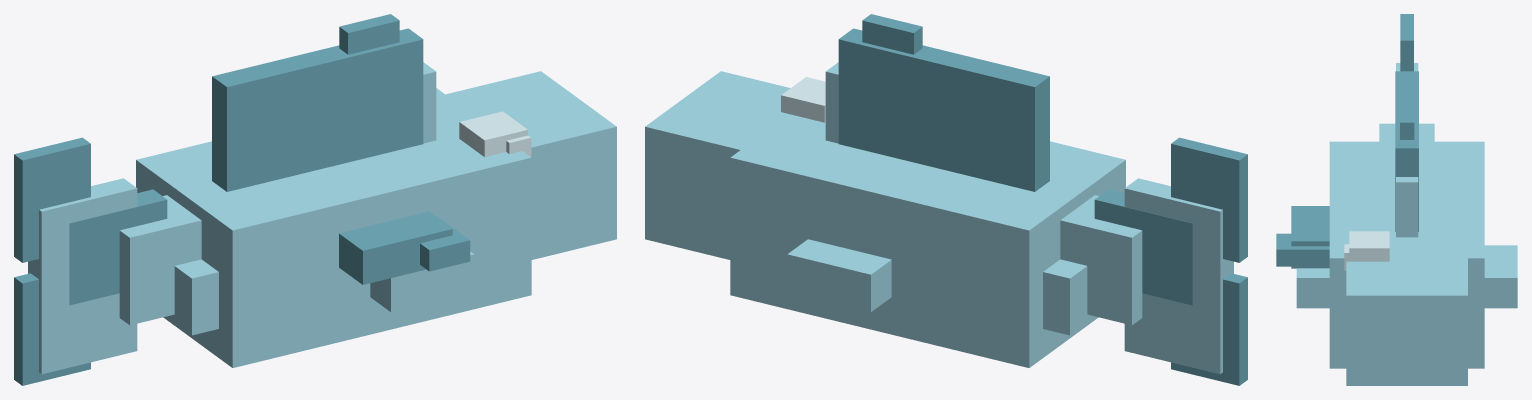
File: fish_crystal_brine.glb
3 views of the same model, side by side, from view 1: azimuth 30°, elevation 25°; view 2: azimuth 150°, elevation 25°; view 3: azimuth 270°, elevation 25° (orthographic). The views are drawn at different scales.
Visible parts, largest first — view 1: FishArt_body, FishArt_dorsal, FishArt_tail, FishArt_pectoral, FishArt_eye; view 2: FishArt_body, FishArt_dorsal, FishArt_tail, FishArt_eye; view 3: FishArt_body, FishArt_pectoral, FishArt_dorsal, FishArt_eye, FishArt_tail.
Boxes of the visible parts, x1=… form: FishArt_body: x1=28, y1=62, x2=616, y2=374; FishArt_dorsal: x1=212, y1=14, x2=423, y2=191; FishArt_tail: x1=14, y1=137, x2=167, y2=385; FishArt_pectoral: x1=339, y1=211, x2=470, y2=284; FishArt_eye: x1=459, y1=111, x2=531, y2=156; FishArt_body: x1=645, y1=62, x2=1233, y2=374; FishArt_dorsal: x1=838, y1=14, x2=1049, y2=191; FishArt_tail: x1=1094, y1=137, x2=1247, y2=385; FishArt_eye: x1=781, y1=77, x2=825, y2=122; FishArt_body: x1=1296, y1=63, x2=1517, y2=385; FishArt_pectoral: x1=1276, y1=206, x2=1329, y2=268; FishArt_dorsal: x1=1395, y1=71, x2=1418, y2=231; FishArt_eye: x1=1344, y1=231, x2=1389, y2=270; FishArt_tail: x1=1400, y1=14, x2=1413, y2=71.
Size of the model in its own units: 0.3091 by 0.1442 by 0.1439.
